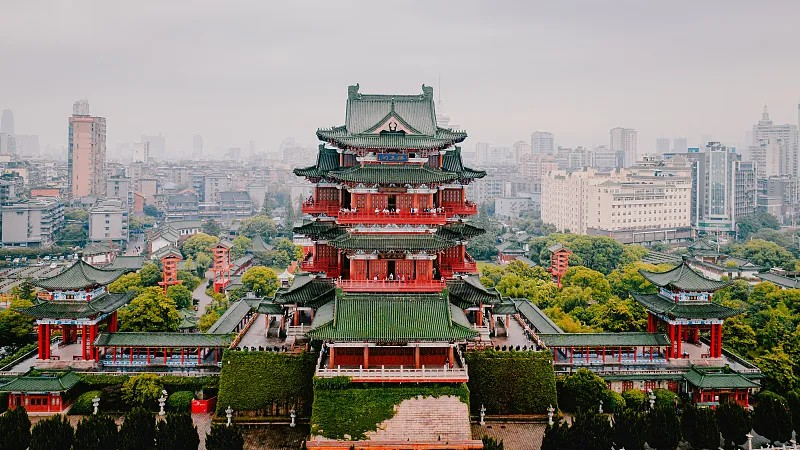Teng: (258, 84, 520, 369)
